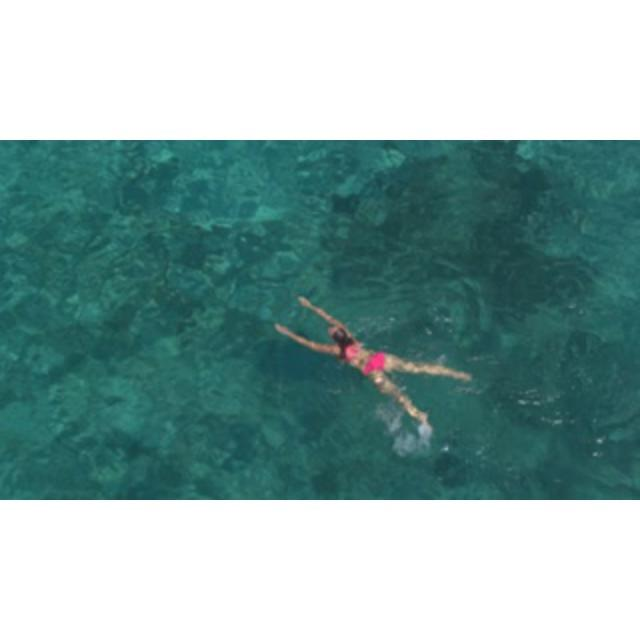human: (275, 295, 473, 433)
